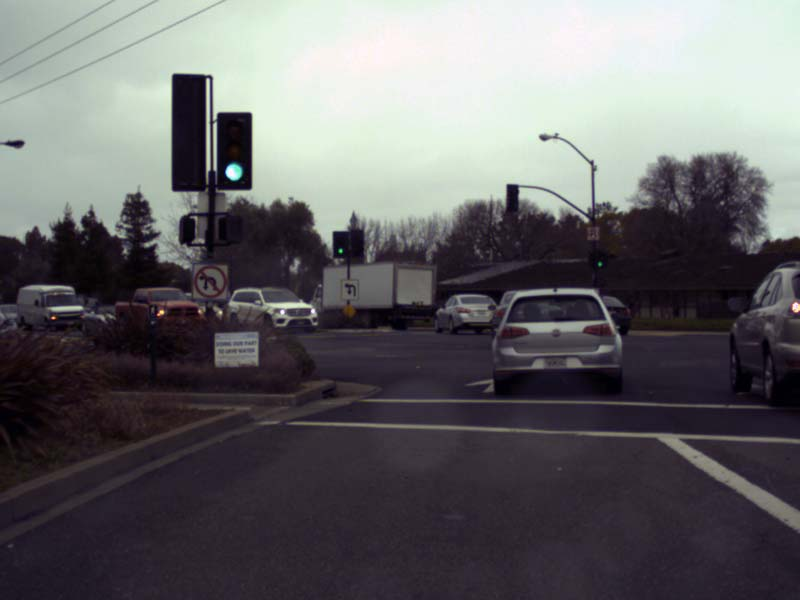Green: (218, 112, 251, 188), (333, 231, 347, 256), (596, 249, 603, 268)
Red: (506, 183, 518, 211), (351, 229, 363, 255)
